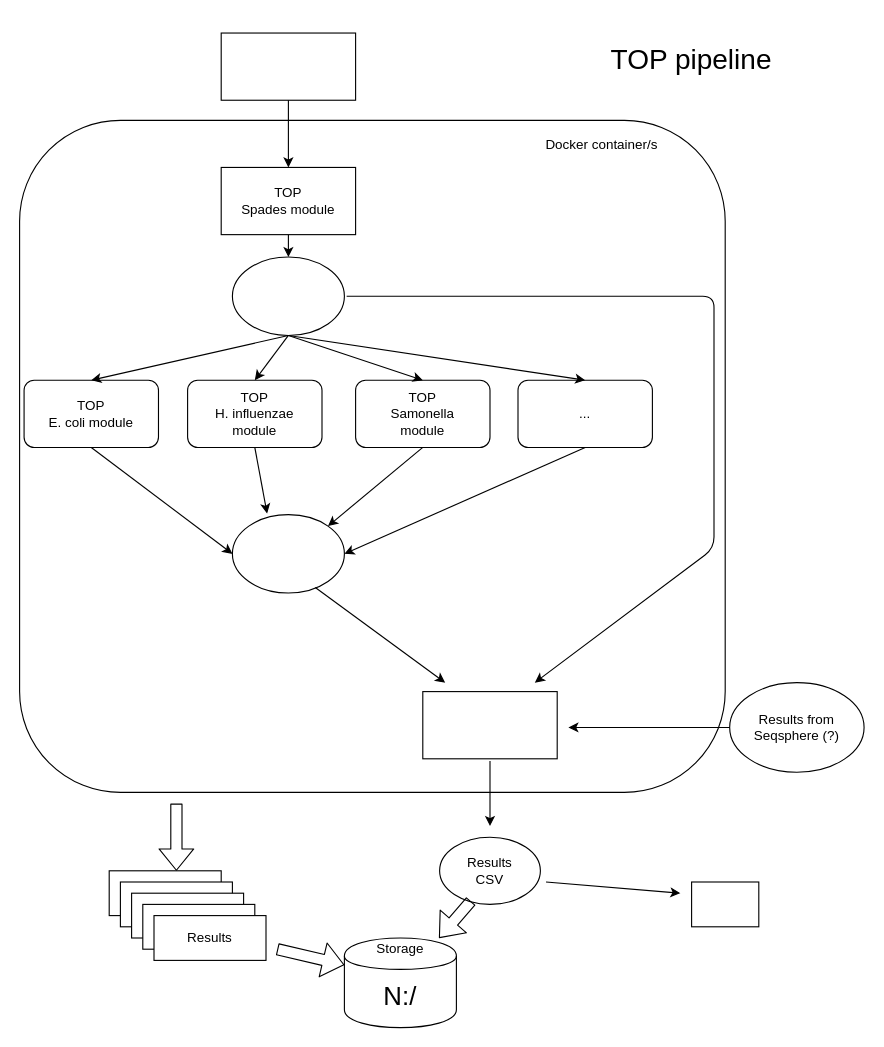
This 884x1047 diagram has some shape labels left out. Each missing label, with the centre of its shape:
"LW" goes at point 724,904.
"Merging" goes at point 489,724.
"Reads" goes at point 288,66.
"Specific Summaries CSV" goes at point 287,553.
"Summaries CSV" goes at point 287,295.
